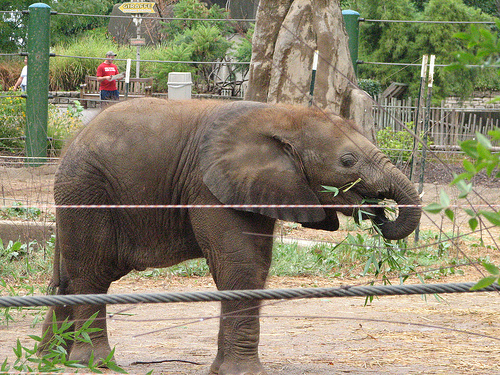elephant: (33, 85, 437, 374)
